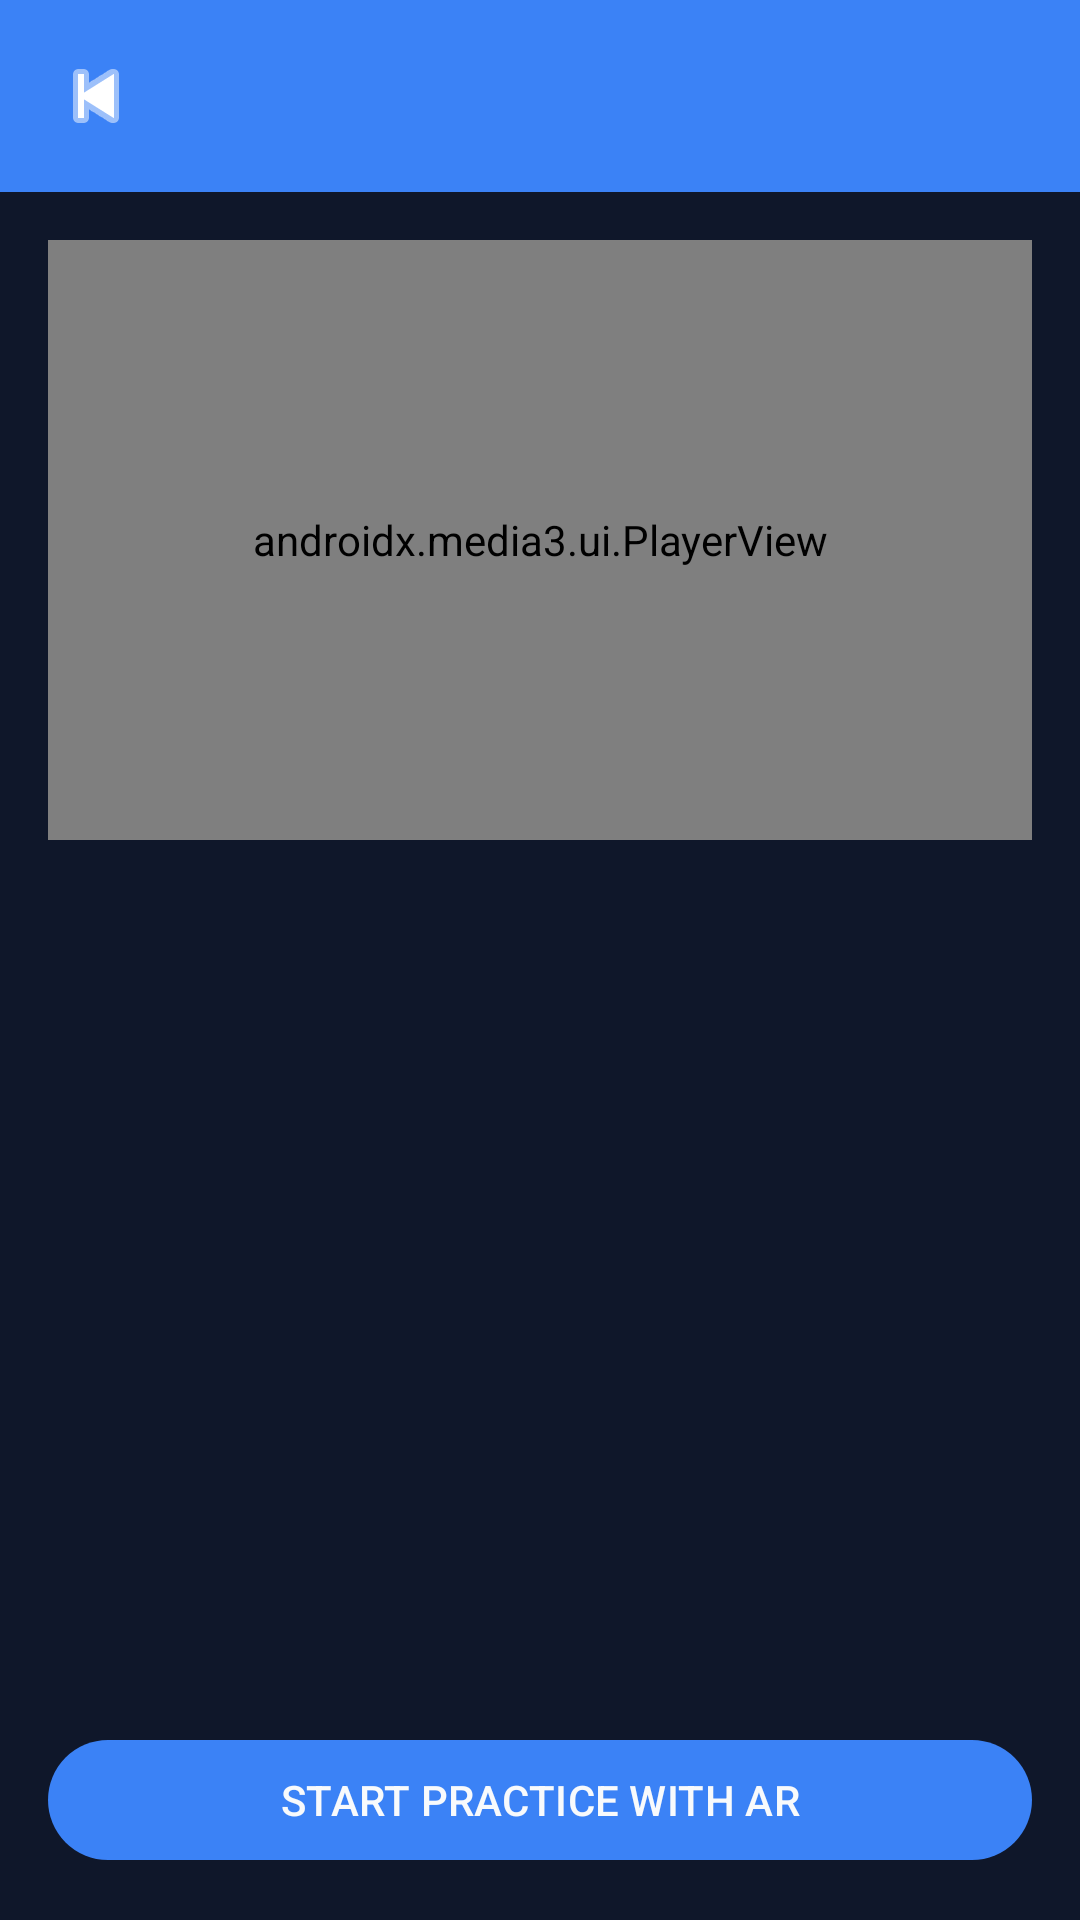

Screen size 1080×1920. Icon name, then its center in pixels as [x,y]:
previous: [96,96]
